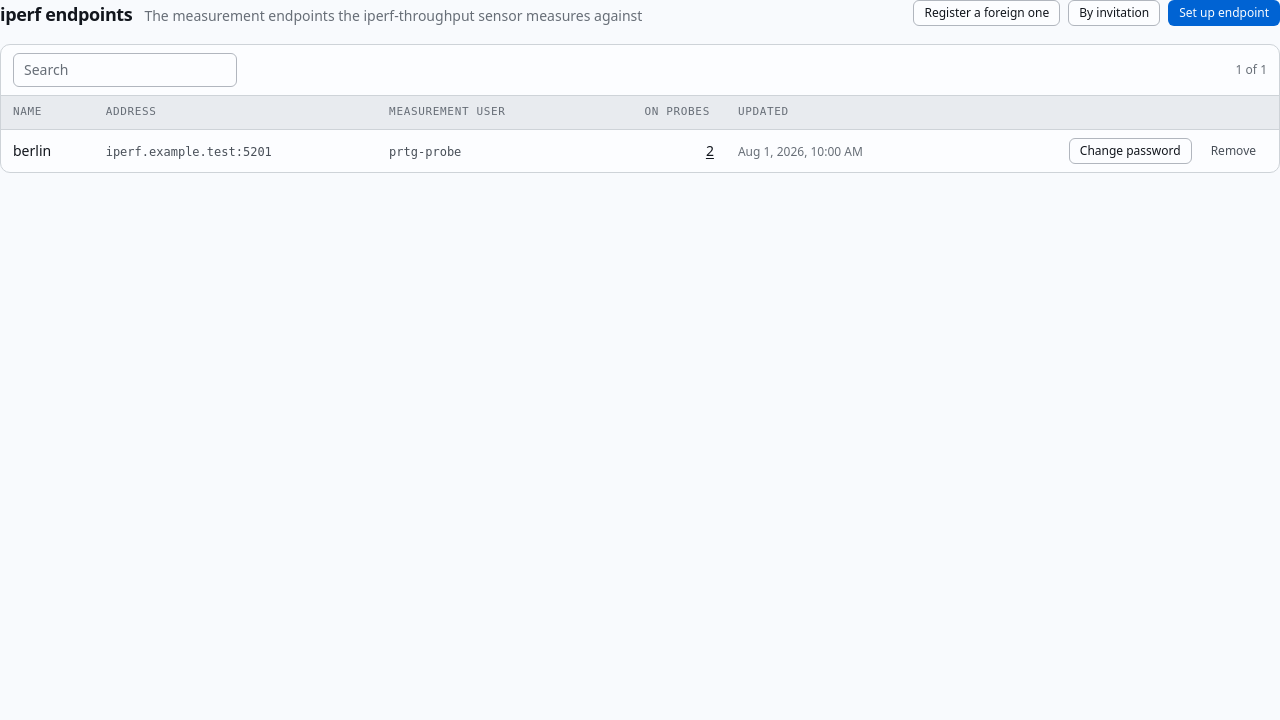
it: changing the password of a measurement endpoint › shows the failure it used to swallow
This screenshot has width=1280, height=720.
Click the button "Change password". click: (1130,150)
box: x1=1069 y1=138 x2=1192 y2=164
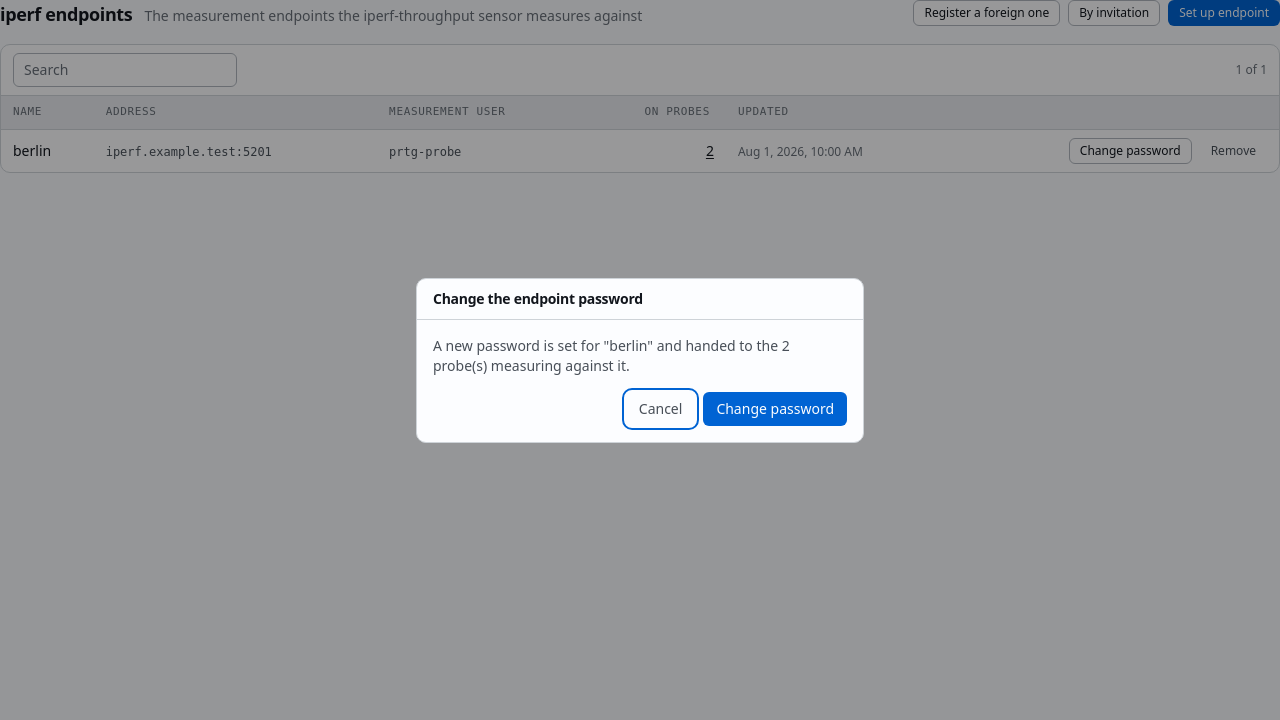
Click the button "Change password". click: (775,408)
box: x1=703 y1=392 x2=847 y2=426
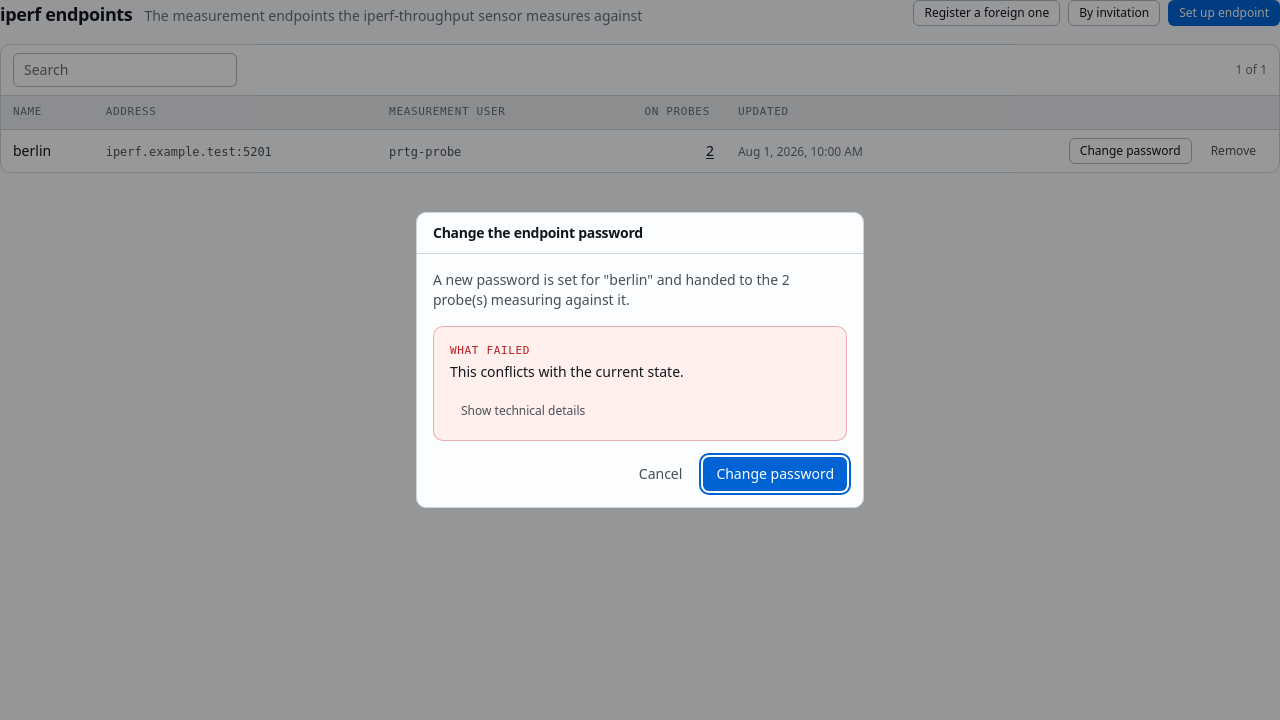
Result: the text "What failed" is shown at x1=450 y1=344 x2=530 y2=357
